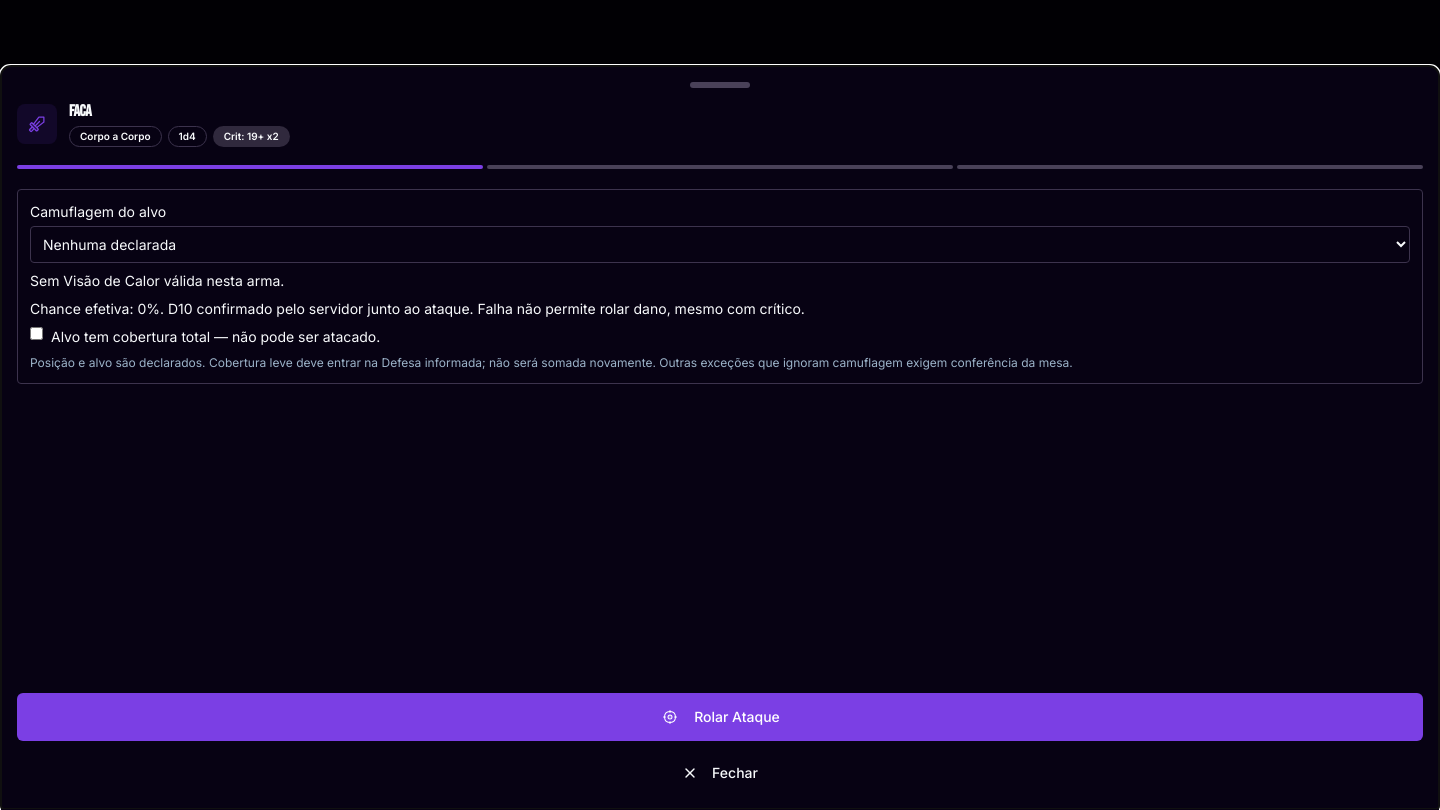
Test case: Camuflagem: mobile › requer contexto confirmado e cobertura total bloqueia antes da rolagem
Select "Total — 50%" in the dropdown labelled "Camuflagem do alvo". click: (720, 244)
box: x1=30 y1=226 x2=1410 y2=263
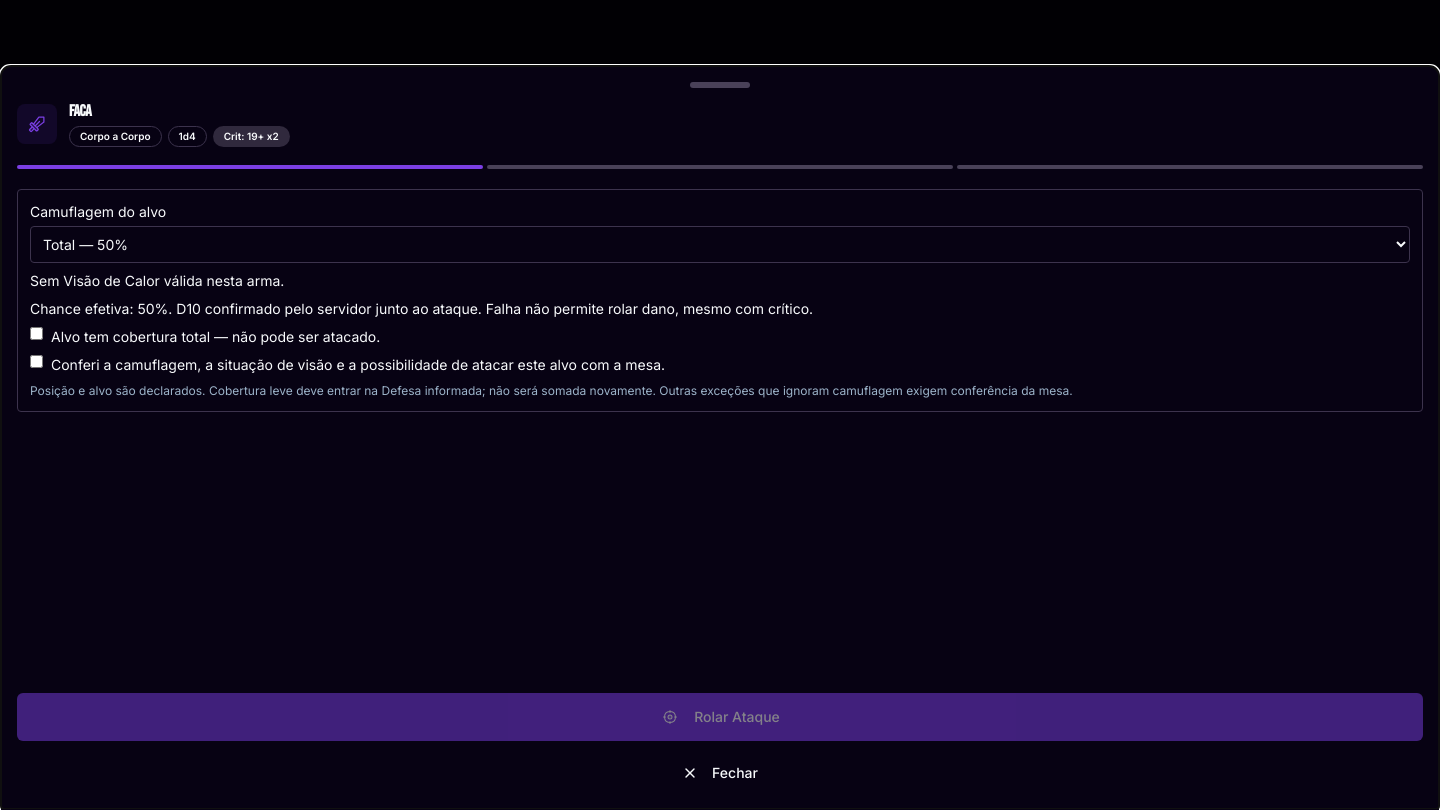
Check: the button "Rolar Ataque" is disabled, box x1=17 y1=693 x2=1423 y2=741
Click the checkbox named "Conferi a camuflagem, a situação de visão e a possibilidade de atacar este alvo com a mesa.". click: (36, 361)
box: x1=30 y1=355 x2=43 y2=368
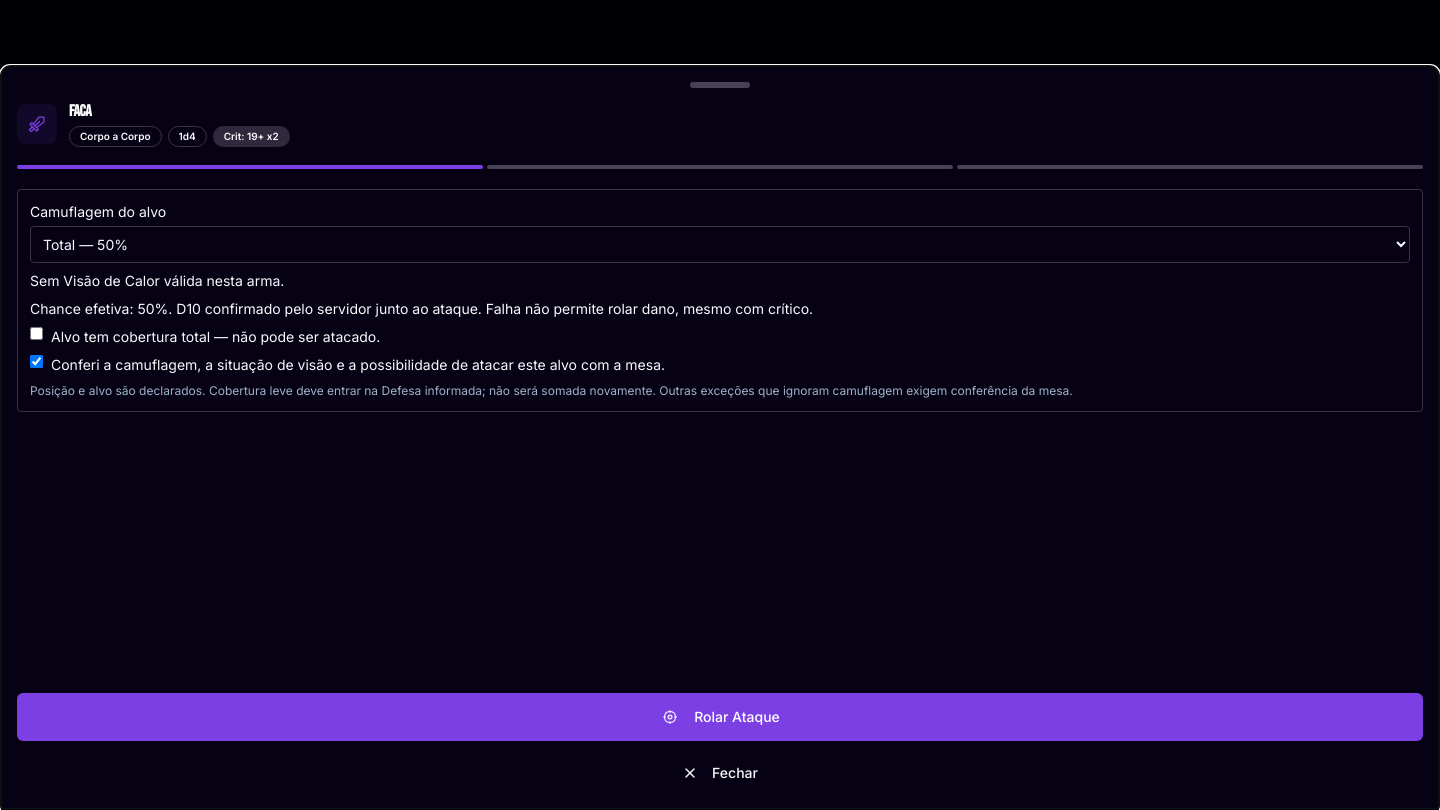
Check: the button "Rolar Ataque" is enabled, box x1=17 y1=693 x2=1423 y2=741
Click the checkbox labelled "Alvo tem cobertura total — não pode ser atacado.". click: (36, 333)
box: x1=30 y1=327 x2=43 y2=340
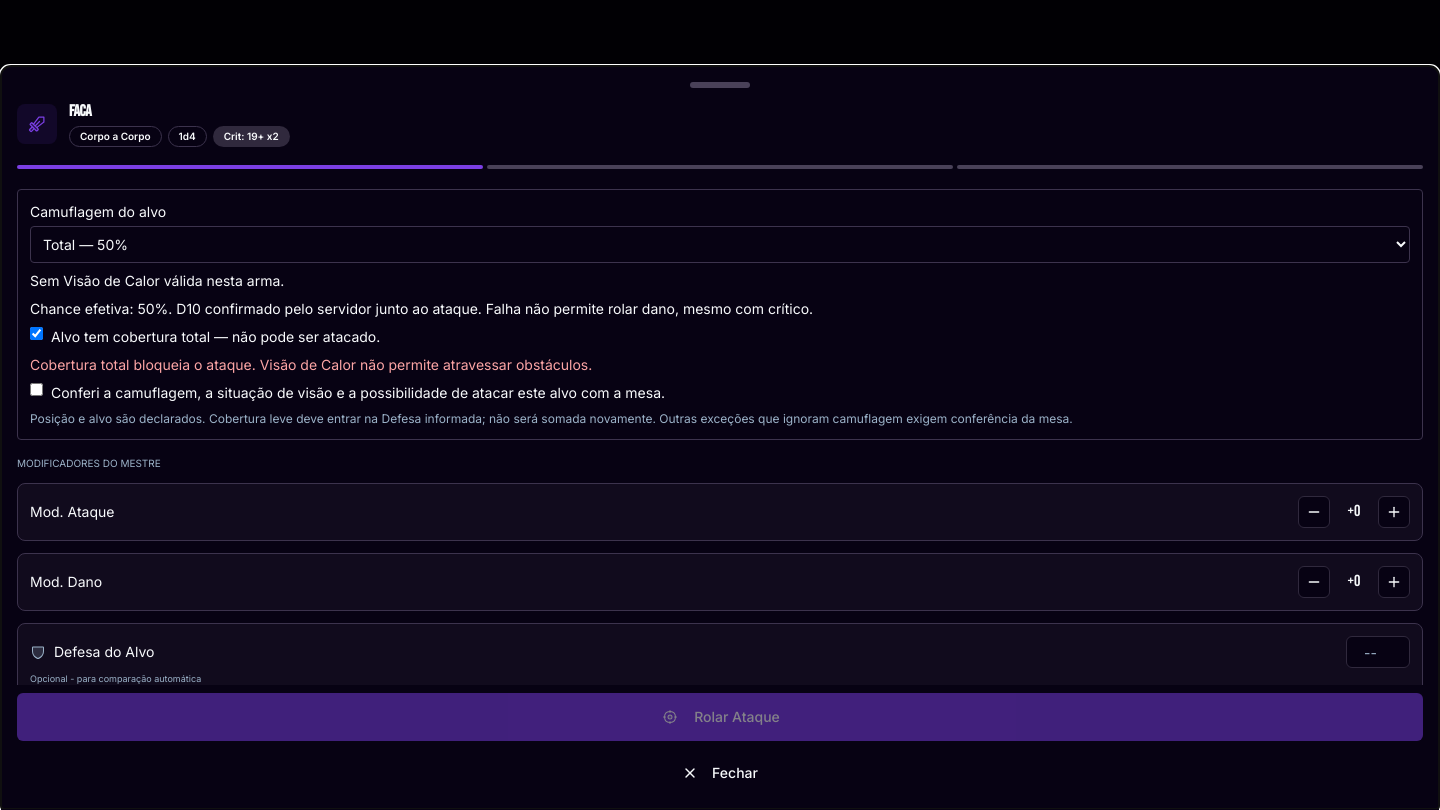
Check: the button "Rolar Ataque" is disabled, box x1=17 y1=693 x2=1423 y2=741
